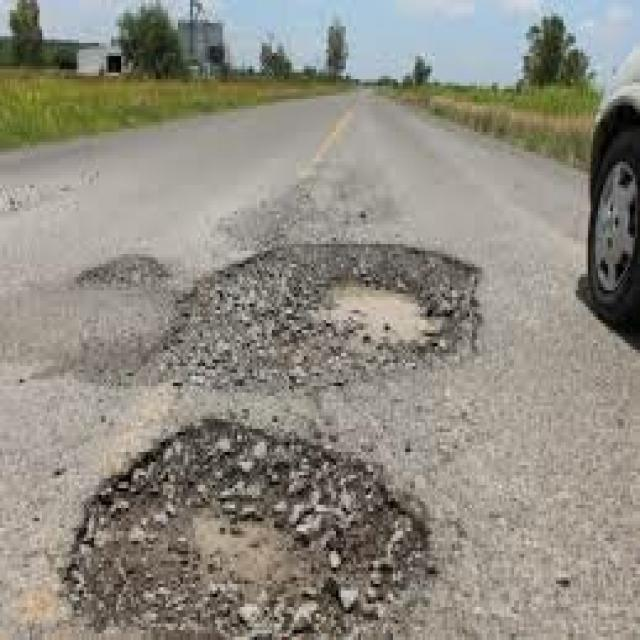Pothole: (86, 185, 529, 406), (39, 419, 454, 640)
